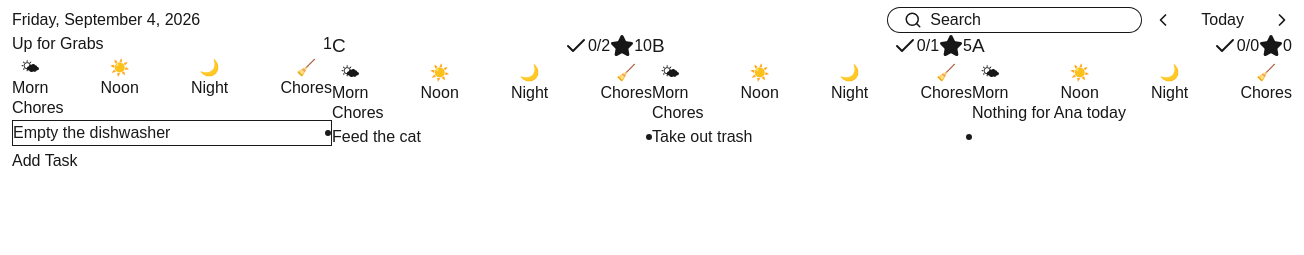
Scenario: TasksBoard › shows the clock's own section and keeps the others behind their toggles (US1-2)
Check: the text "Brush teeth" is not shown
Step 1. Click the button with aria-label "Morning" → (350, 80), box [332,60,368,100]
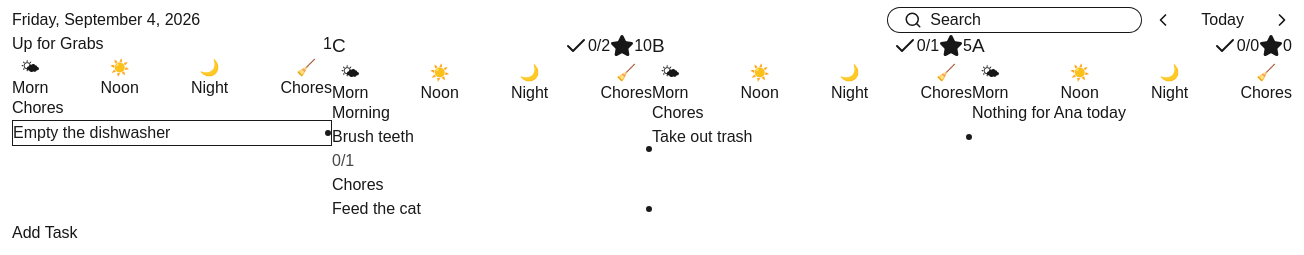
Check: the text "Brush teeth" is shown, box [332,124,414,148]
